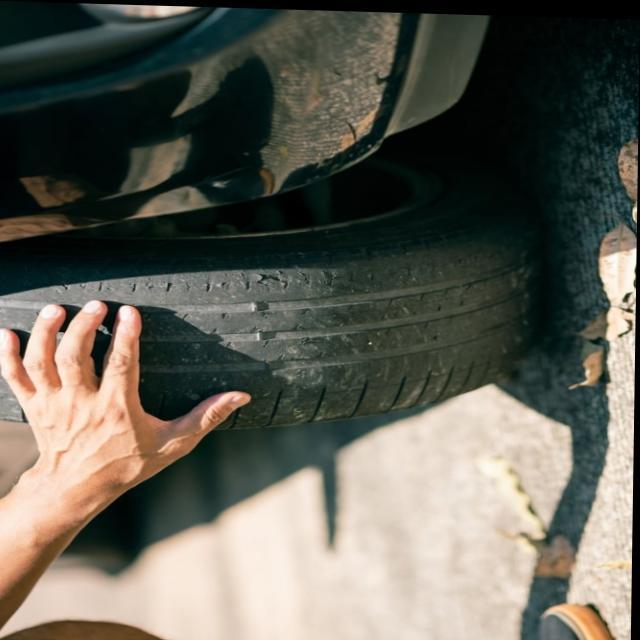Flat spots: (253, 222, 549, 432)
